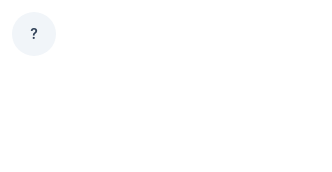
Test case: shows a disabled profile while loading, then a fallback name without logout
Later steps or results of the test are not shown.
What coordinates should you click on to do the following:
click the button named "Профиль: Пользователь"
I would click on:
 (34, 34)
Its box is [12,12,56,56].
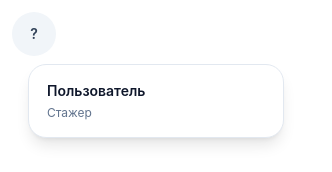
Expected: the menu is shown, [28,64,284,138]
Expected: the text "Пользователь" is shown, [47,82,146,99]
